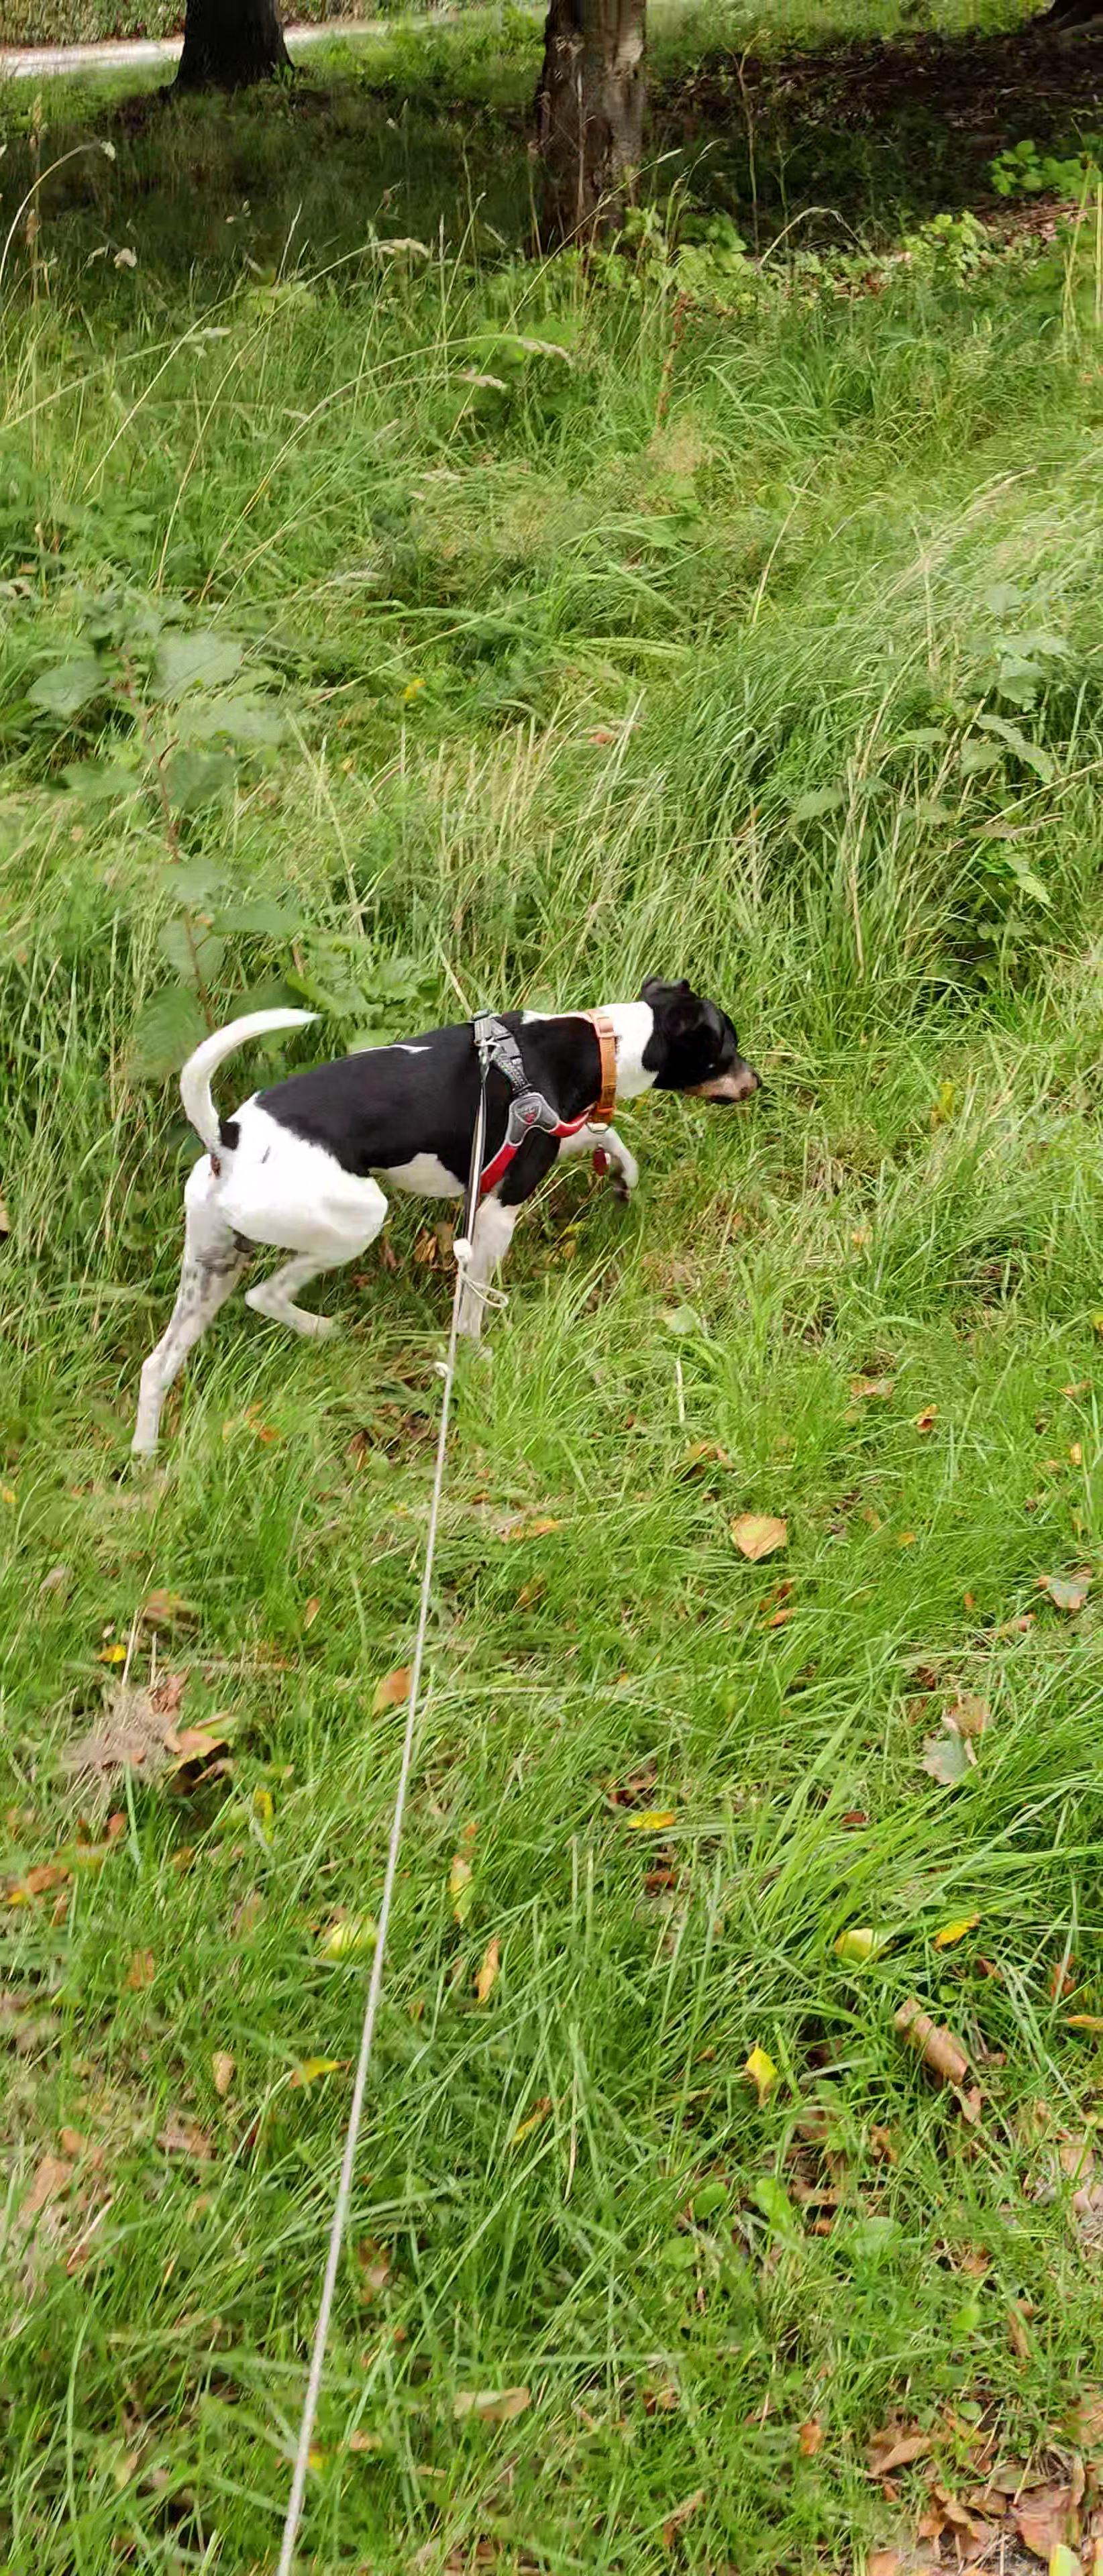Dog: (123, 963, 768, 1485)
